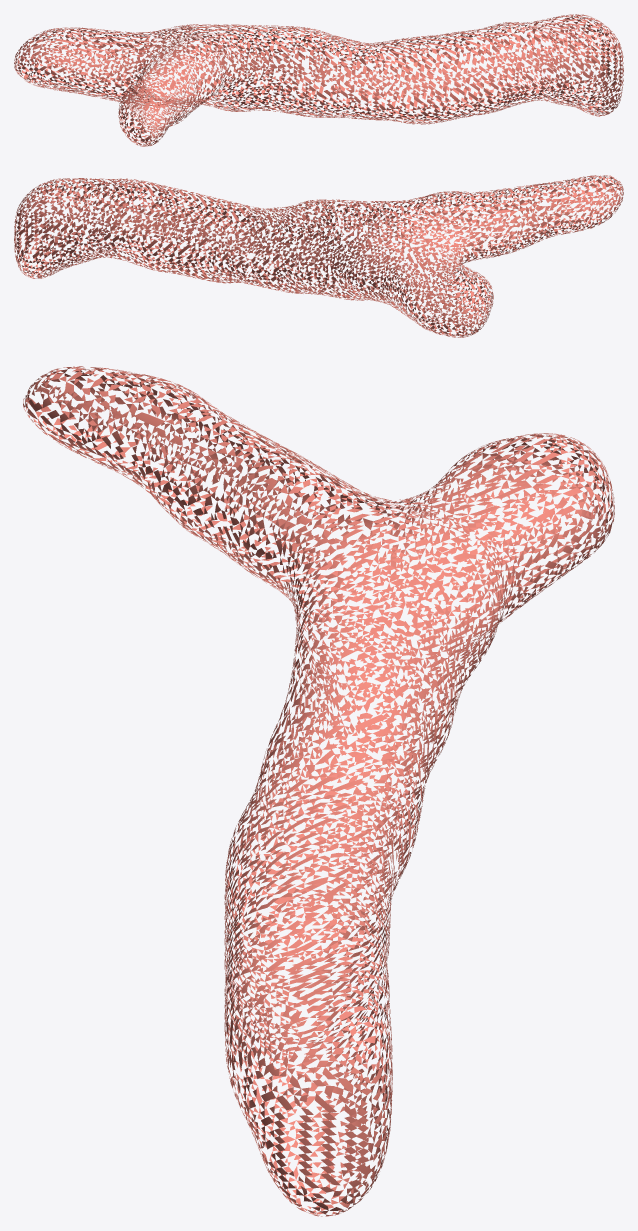
File: diseased.glb
The picture shows the model from 3 angles, top to bottom: view 1: azimuth 30°, elevation 25°; view 2: azimuth 150°, elevation 25°; view 3: azimuth 270°, elevation 25°; orthographic projection. The views are drawn at different scales.
Size of the model in its own units: 107 by 34.44 by 51.47.
